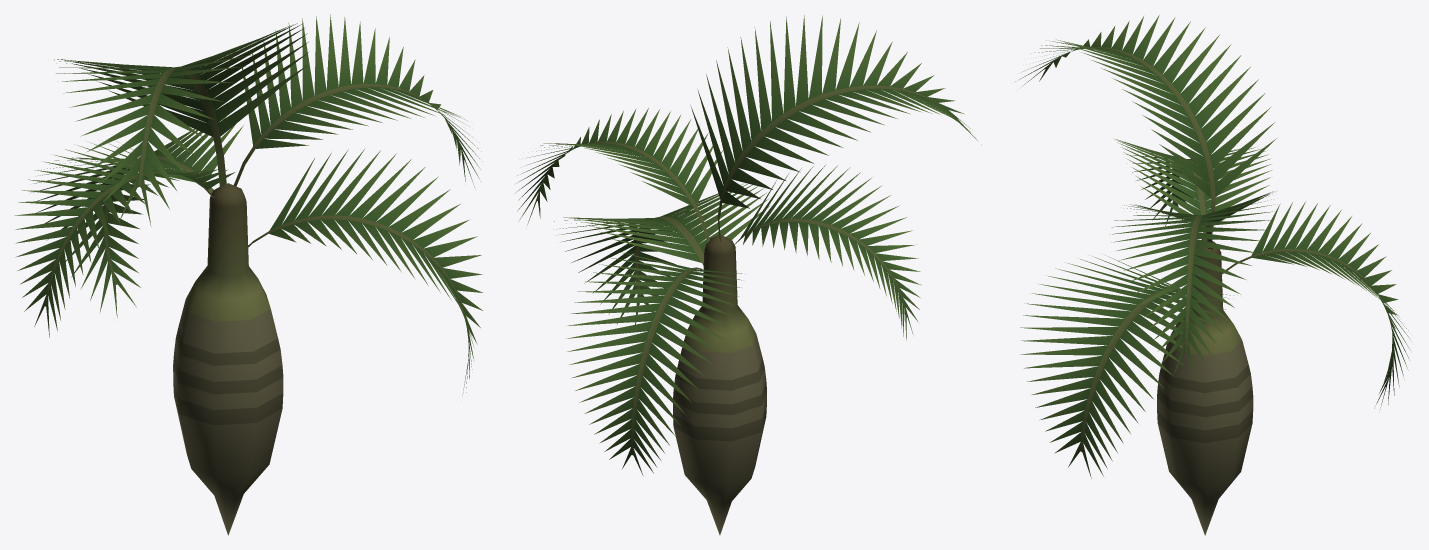
Rendered from trees-palms-ferns-bottle-palm_v3.glb.
3 views of the same model, side by side, from view 1: azimuth 30°, elevation 25°; view 2: azimuth 150°, elevation 25°; view 3: azimuth 270°, elevation 25° (orthographic). The views are drawn at different scales.
Parts seen in each view (by area): view 1: Bottle Palm_v3; view 2: Bottle Palm_v3; view 3: Bottle Palm_v3.
Boxes of the visible parts, <box> form: Bottle Palm_v3: <box>14,14,482,535</box>; Bottle Palm_v3: <box>517,15,981,535</box>; Bottle Palm_v3: <box>1015,15,1410,535</box>.
Bounding box in the file's own units: 3.35 × 4 × 3.09.
